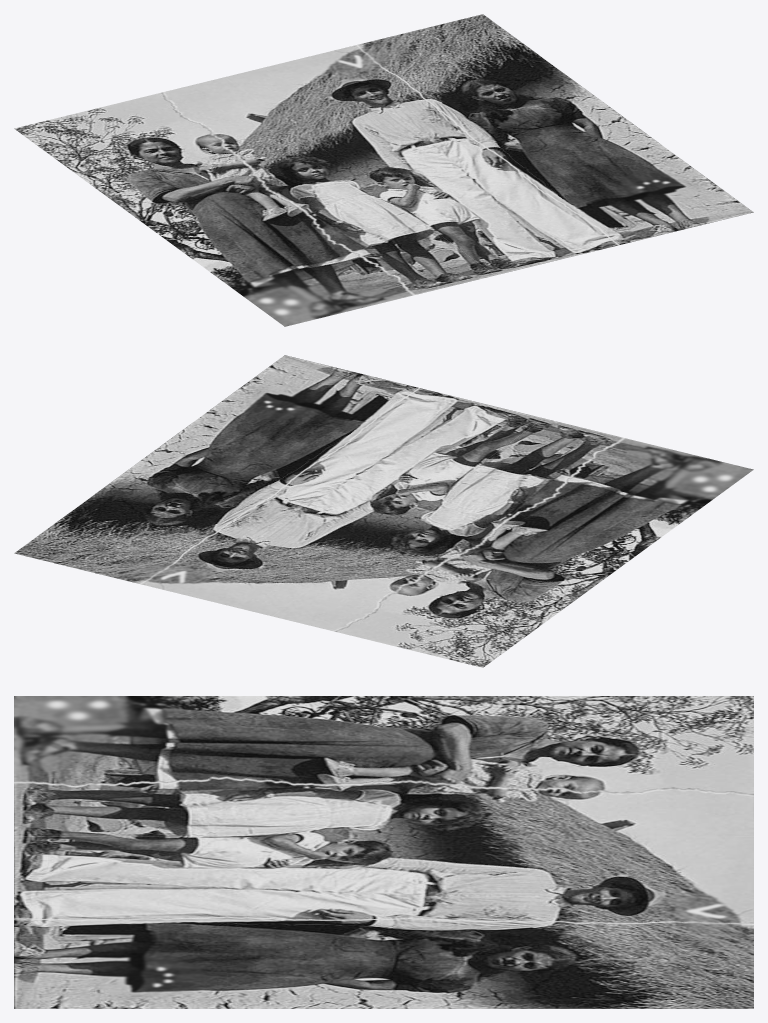
File: Foto_puzzle.fbx
The picture shows the model from 3 angles, top to bottom: view 1: azimuth 30°, elevation 25°; view 2: azimuth 150°, elevation 25°; view 3: azimuth 270°, elevation 25°; orthographic projection. The views are drawn at different scales.
Parts seen in each view (by area): view 1: Plane.003, Plane.002, Plane.004; view 2: Plane.003, Plane.002, Plane.004; view 3: Plane.003, Plane.002, Plane.004.
Part boxes in pixels (bbox=[...]): Plane.003: bbox=[162, 45, 619, 294]; Plane.002: bbox=[14, 92, 414, 326]; Plane.004: bbox=[357, 14, 753, 244]; Plane.003: bbox=[140, 388, 623, 631]; Plane.002: bbox=[335, 438, 753, 667]; Plane.004: bbox=[14, 355, 418, 583]; Plane.003: bbox=[14, 778, 753, 924]; Plane.002: bbox=[14, 696, 753, 794]; Plane.004: bbox=[14, 917, 753, 1008].
Size of the model in its own units: 5.12 by 5.12 by 0.
